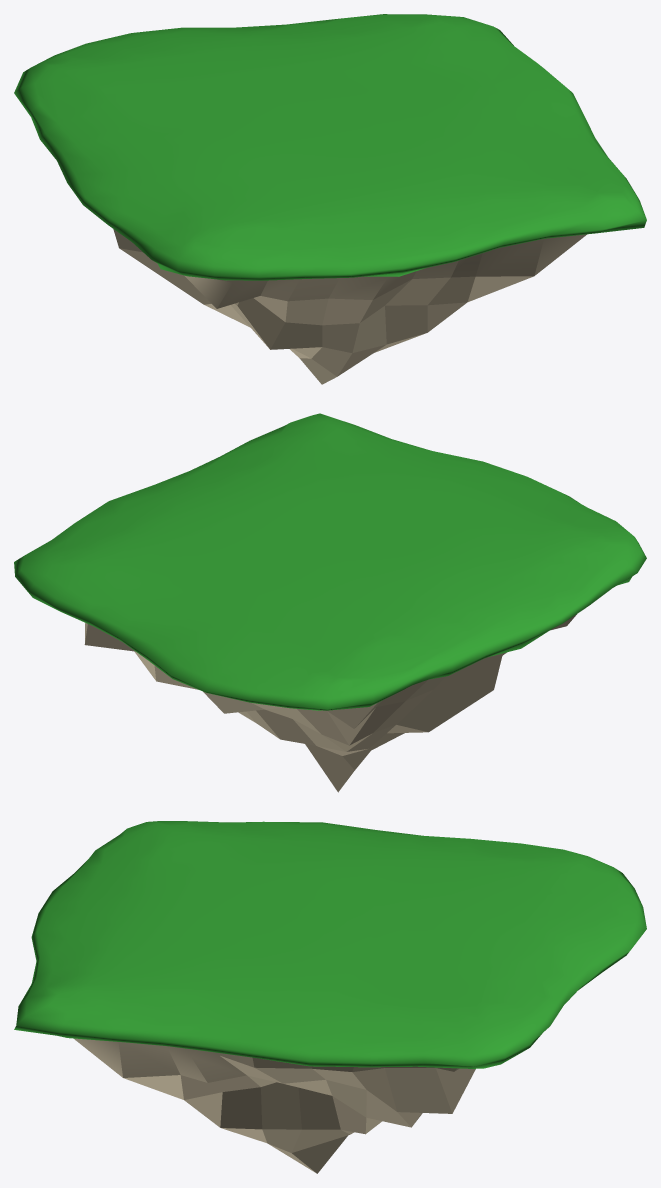
Rendered from SM_Island4.fbx.
3 renders of one model, top to bottom at view 1: azimuth 30°, elevation 25°; view 2: azimuth 150°, elevation 25°; view 3: azimuth 270°, elevation 25°, orthographic. The views are drawn at different scales.
Visible parts, largest first — view 1: SM_Island4; view 2: SM_Island4; view 3: SM_Island4.
Part boxes in pixels (x1,y1,x2,y2): SM_Island4: [14, 14, 646, 384]; SM_Island4: [14, 413, 646, 792]; SM_Island4: [14, 821, 646, 1173].
Size of the model in its own units: 40.95 by 20.48 by 45.68.
